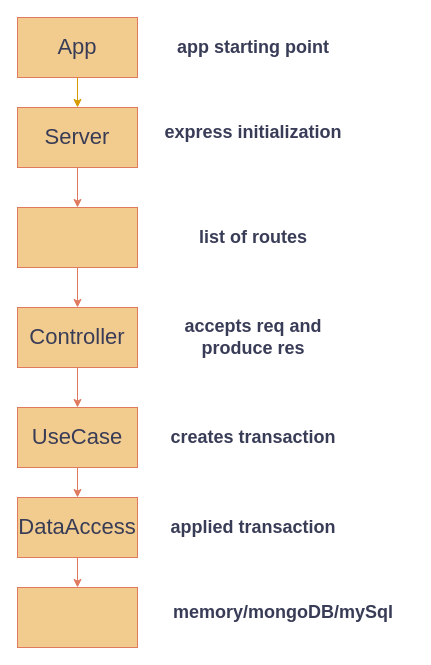
This 431x665 diagram has some shape labels left out. Here are the shapes that lost their labels. From the top down, the centre of each, then its label:
At point (77, 237): "Router".
At point (77, 617): "Repo/DB".
